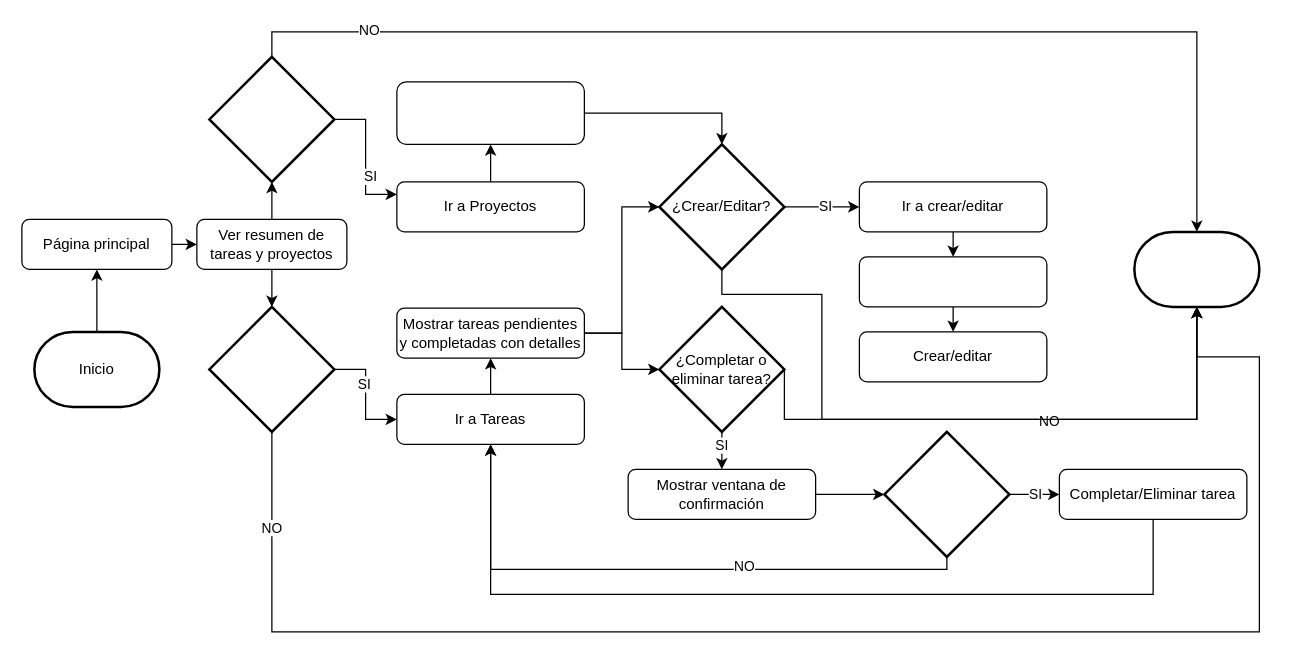
Image size: 1291x664. Some labels were removed from this diagram. The centre of each missing label's shape, as x and y in pixels:
"Completar formulario" belongs at point (952, 281).
"Confirmación" belongs at point (946, 494).
"Fin" belongs at point (1196, 269).
"Mostrar proyectos pendientes y completadas con detalles" belongs at point (490, 112).
"¿Ver Proyectos?" belongs at point (271, 118).
"¿Ver Tareas?" belongs at point (271, 368).
